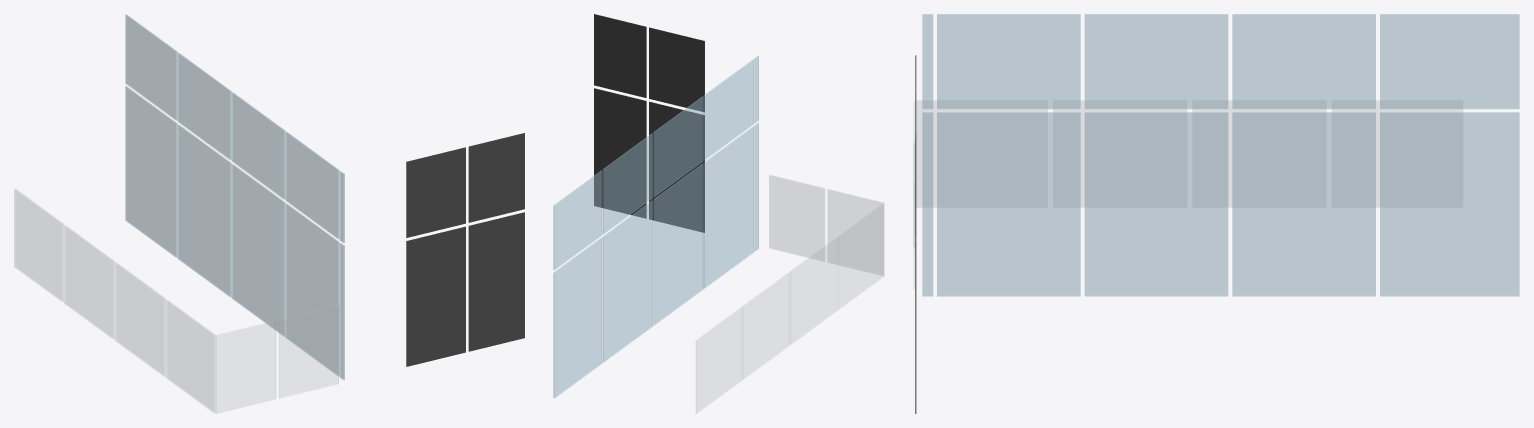
Rendered from PROJETO BIM 12 ANDARES_Quinto_IfcPlate.dae.
3 views of the same model, side by side, from view 1: azimuth 30°, elevation 25°; view 2: azimuth 150°, elevation 25°; view 3: azimuth 270°, elevation 25° (orthographic). The views are drawn at different scales.
Visible parts, largest first — view 1: 1C3e13NTDBWfr6F8kTVnWk, 1C3e13NTDBWfr6F8kTVnlb, 1C3e13NTDBWfr6F8kTVnld, 1C3e13NTDBWfr6F8kTVnlf, 1C3e13NTDBWfr6F8kTVnWK, 1C3e13NTDBWfr6F8kTVnlZ, 1C3e13NTDBWfr6F8kTVnig, 1C3e13NTDBWfr6F8kTVniO, 1C3e13NTDBWfr6F8kTVnWM, 1C3e13NTDBWfr6F8kTVnWN, 1C3e13NTDBWfr6F8kTVniK, 1C3e13NTDBWfr6F8kTVniI (+7 smaller); view 2: 1C3e13NTDBWfr6F8kTVnWk, 1C3e13NTDBWfr6F8kTVnld, 1C3e13NTDBWfr6F8kTVnlf, 1C3e13NTDBWfr6F8kTVnlb, 1C3e13NTDBWfr6F8kTVnlZ, 1C3e13NTDBWfr6F8kTVnWK, 1C3e13NTDBWfr6F8kTVnig, 1C3e13NTDBWfr6F8kTVniO, 1C3e13NTDBWfr6F8kTVnWM, 1C3e13NTDBWfr6F8kTVnWN, 1C3e13NTDBWfr6F8kTVniK, 1C3e13NTDBWfr6F8kTVniI (+8 smaller); view 3: 1C3e13NTDBWfr6F8kTVnld, 1C3e13NTDBWfr6F8kTVnlf, 1C3e13NTDBWfr6F8kTVnlb, 1C3e13NTDBWfr6F8kTVnlZ, 1C3e13NTDBWfr6F8kTVnll, 1C3e13NTDBWfr6F8kTVnlG, 1C3e13NTDBWfr6F8kTVnlk, 1C3e13NTDBWfr6F8kTVnlj, 1C3e13NTDBWfr6F8kTVnlh, 1C3e13NTDBWfr6F8kTVniM, 1C3e13NTDBWfr6F8kTVnlH, 1C3e13NTDBWfr6F8kTVniI (+2 smaller).
Boxes of the visible parts, left/top/right/bottom form: 1C3e13NTDBWfr6F8kTVnWk: left=406, top=226, right=465, bottom=366; 1C3e13NTDBWfr6F8kTVnlb: left=177, top=124, right=231, bottom=297; 1C3e13NTDBWfr6F8kTVnld: left=231, top=164, right=285, bottom=336; 1C3e13NTDBWfr6F8kTVnlf: left=285, top=203, right=339, bottom=376; 1C3e13NTDBWfr6F8kTVnWK: left=468, top=212, right=524, bottom=351; 1C3e13NTDBWfr6F8kTVnlZ: left=125, top=86, right=177, bottom=257; 1C3e13NTDBWfr6F8kTVnig: left=216, top=321, right=275, bottom=413; 1C3e13NTDBWfr6F8kTVniO: left=279, top=305, right=338, bottom=398; 1C3e13NTDBWfr6F8kTVnWM: left=406, top=147, right=465, bottom=237; 1C3e13NTDBWfr6F8kTVnWN: left=468, top=133, right=524, bottom=222; 1C3e13NTDBWfr6F8kTVniK: left=115, top=262, right=165, bottom=376; 1C3e13NTDBWfr6F8kTVniI: left=64, top=225, right=114, bottom=339; 1C3e13NTDBWfr6F8kTVnWk: left=649, top=101, right=704, bottom=232; 1C3e13NTDBWfr6F8kTVnld: left=653, top=163, right=703, bottom=325; 1C3e13NTDBWfr6F8kTVnlf: left=703, top=126, right=753, bottom=288; 1C3e13NTDBWfr6F8kTVnlb: left=602, top=200, right=652, bottom=362; 1C3e13NTDBWfr6F8kTVnlZ: left=553, top=237, right=602, bottom=398; 1C3e13NTDBWfr6F8kTVnWK: left=594, top=88, right=646, bottom=218; 1C3e13NTDBWfr6F8kTVnig: left=827, top=189, right=883, bottom=275; 1C3e13NTDBWfr6F8kTVniO: left=769, top=175, right=824, bottom=261; 1C3e13NTDBWfr6F8kTVnWM: left=649, top=27, right=704, bottom=112; 1C3e13NTDBWfr6F8kTVnWN: left=594, top=14, right=646, bottom=97; 1C3e13NTDBWfr6F8kTVniK: left=790, top=237, right=837, bottom=344; 1C3e13NTDBWfr6F8kTVniI: left=742, top=272, right=789, bottom=379; 1C3e13NTDBWfr6F8kTVnld: left=1084, top=112, right=1228, bottom=296; 1C3e13NTDBWfr6F8kTVnlf: left=937, top=112, right=1080, bottom=296; 1C3e13NTDBWfr6F8kTVnlb: left=1232, top=112, right=1375, bottom=296; 1C3e13NTDBWfr6F8kTVnlZ: left=1380, top=112, right=1519, bottom=296; 1C3e13NTDBWfr6F8kTVnll: left=1084, top=14, right=1228, bottom=109; 1C3e13NTDBWfr6F8kTVnlG: left=937, top=14, right=1080, bottom=109; 1C3e13NTDBWfr6F8kTVnlk: left=1232, top=14, right=1375, bottom=109; 1C3e13NTDBWfr6F8kTVnlj: left=1380, top=14, right=1519, bottom=109; 1C3e13NTDBWfr6F8kTVnlh: left=922, top=112, right=933, bottom=296; 1C3e13NTDBWfr6F8kTVniM: left=916, top=100, right=1047, bottom=207; 1C3e13NTDBWfr6F8kTVnlH: left=922, top=14, right=933, bottom=109; 1C3e13NTDBWfr6F8kTVniI: left=1192, top=100, right=1326, bottom=207.
Bounding box in the file's own units: 4.98 × 6.16 × 3.16.
